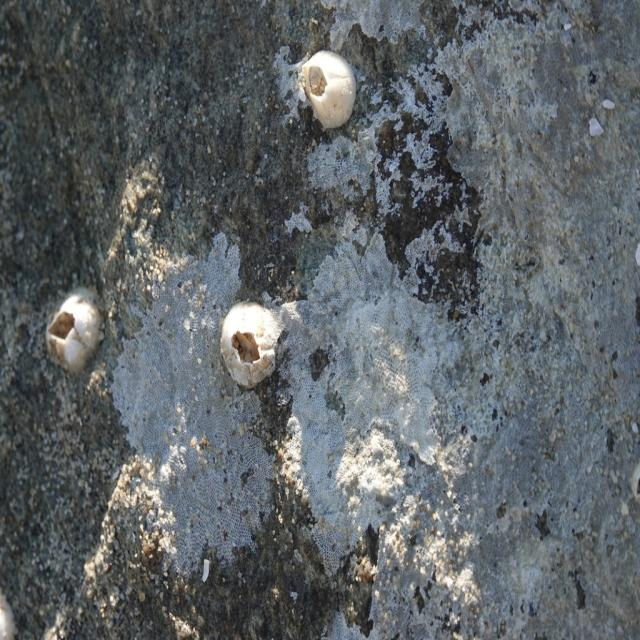barnacles: (214, 296, 286, 394), (289, 48, 357, 148), (42, 274, 112, 370)
